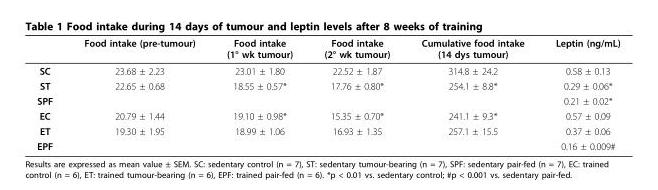table: (36, 36, 619, 151)
table column: (67, 36, 210, 151), (405, 36, 539, 151), (307, 36, 405, 151), (210, 36, 307, 151), (539, 36, 619, 151), (36, 36, 67, 151)
table column header: (36, 36, 619, 62)
table row: (36, 36, 619, 62), (36, 62, 619, 78), (36, 78, 619, 93), (36, 93, 619, 108), (36, 108, 619, 123), (36, 123, 619, 138), (36, 138, 619, 151)
